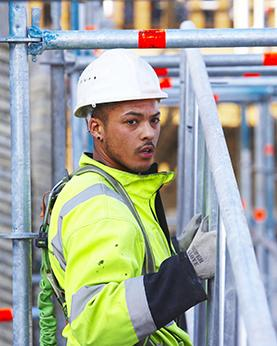helmet: (75, 50, 169, 115)
